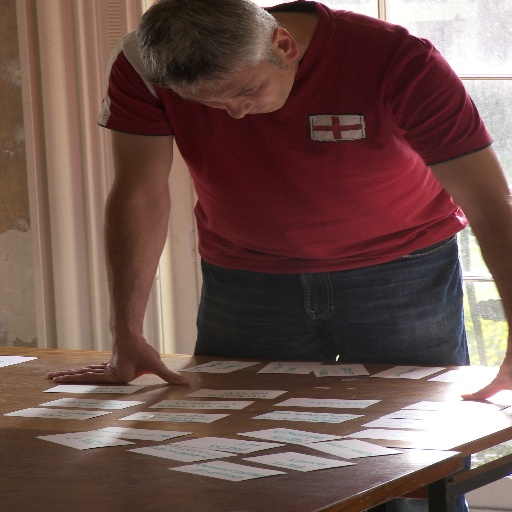hand: (41, 333, 192, 386), (462, 356, 511, 401)
